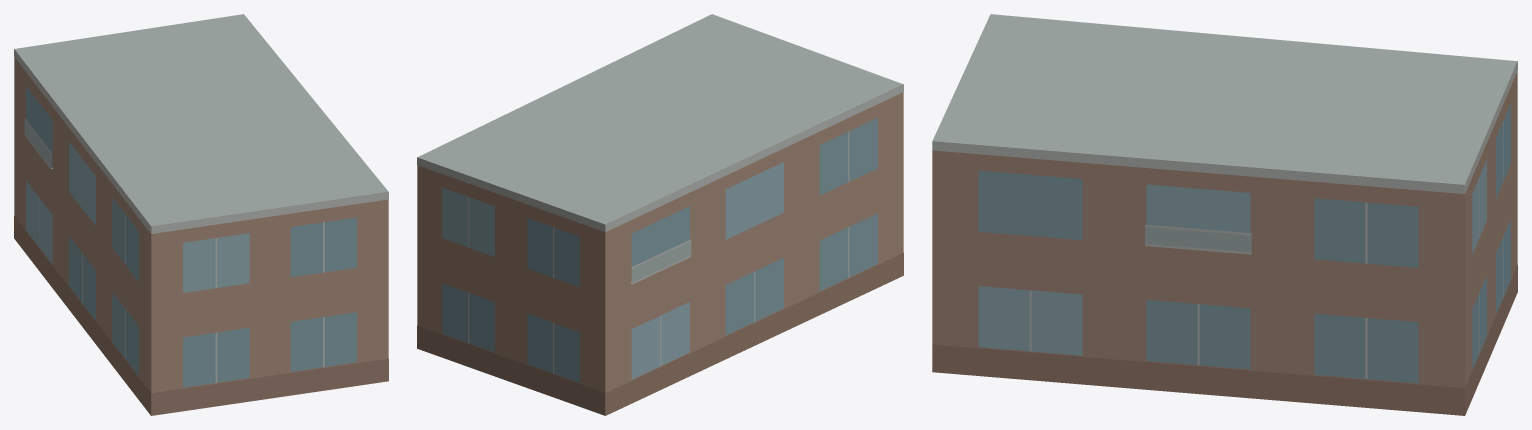
File: survey-upis-32704917.glb
The picture shows the model from 3 angles, left to right: view 1: azimuth 30°, elevation 25°; view 2: azimuth 150°, elevation 25°; view 3: azimuth 270°, elevation 25°; orthographic projection. The views are drawn at different scales.
Visible parts, largest first — view 1: survey-upis-32704917.tmp; view 2: survey-upis-32704917.tmp; view 3: survey-upis-32704917.tmp.
Part boxes in pixels (x1,y1,x2,y2): survey-upis-32704917.tmp: (14, 14, 388, 415); survey-upis-32704917.tmp: (417, 14, 903, 415); survey-upis-32704917.tmp: (932, 14, 1517, 415).
Size of the model in its own units: 9.69 by 6.1 by 14.03.
